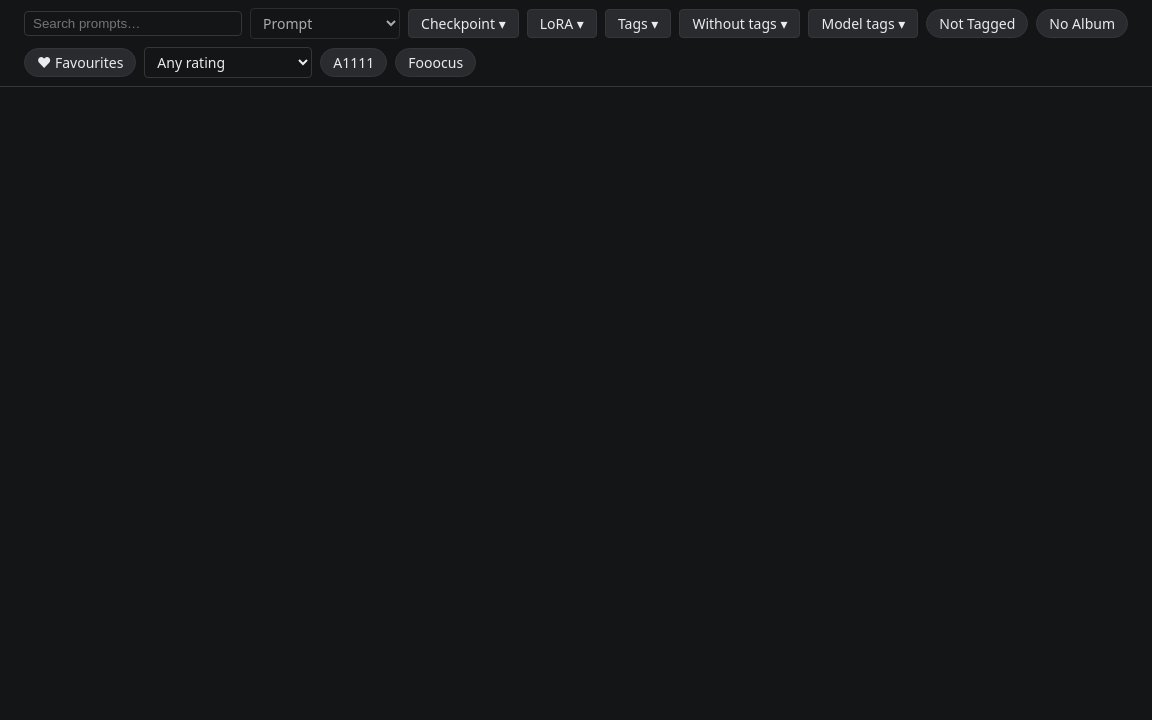
FilterBar › narrows the picker list by name and closes on Escape
Click the button "LoRA ▾" at (562, 24), box [527,9,597,38]
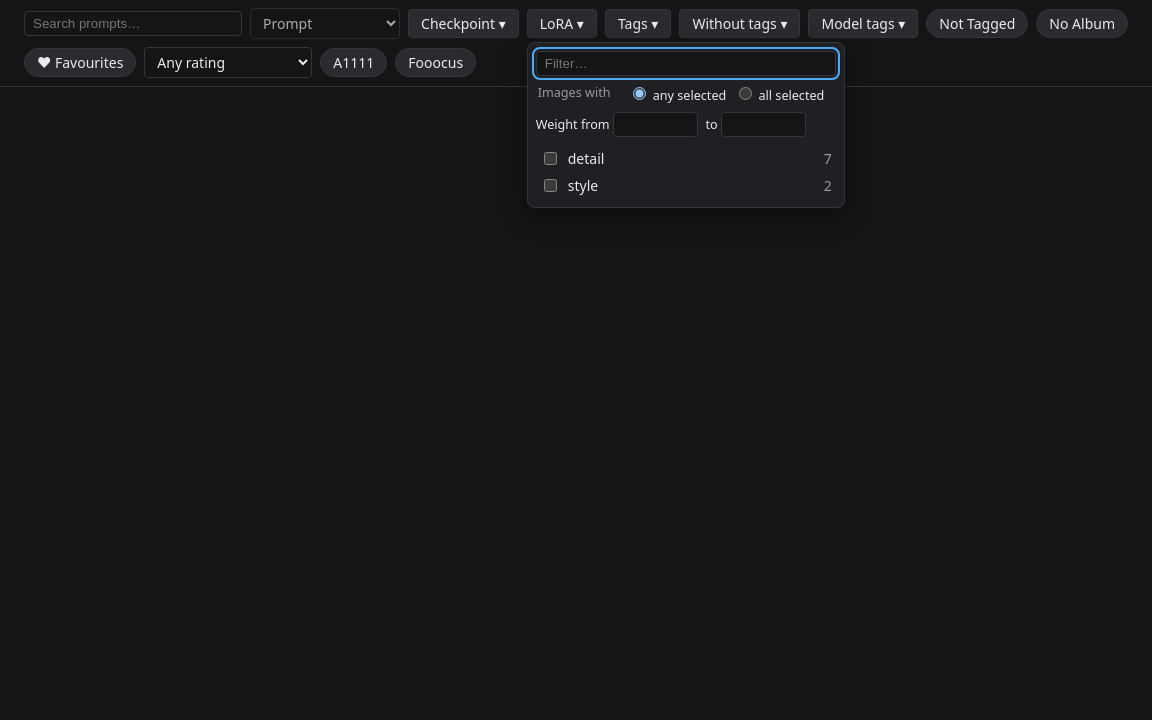
Type "sty" into the search field with placeholder "Filter…" at (686, 64), box [536,51,836,76]
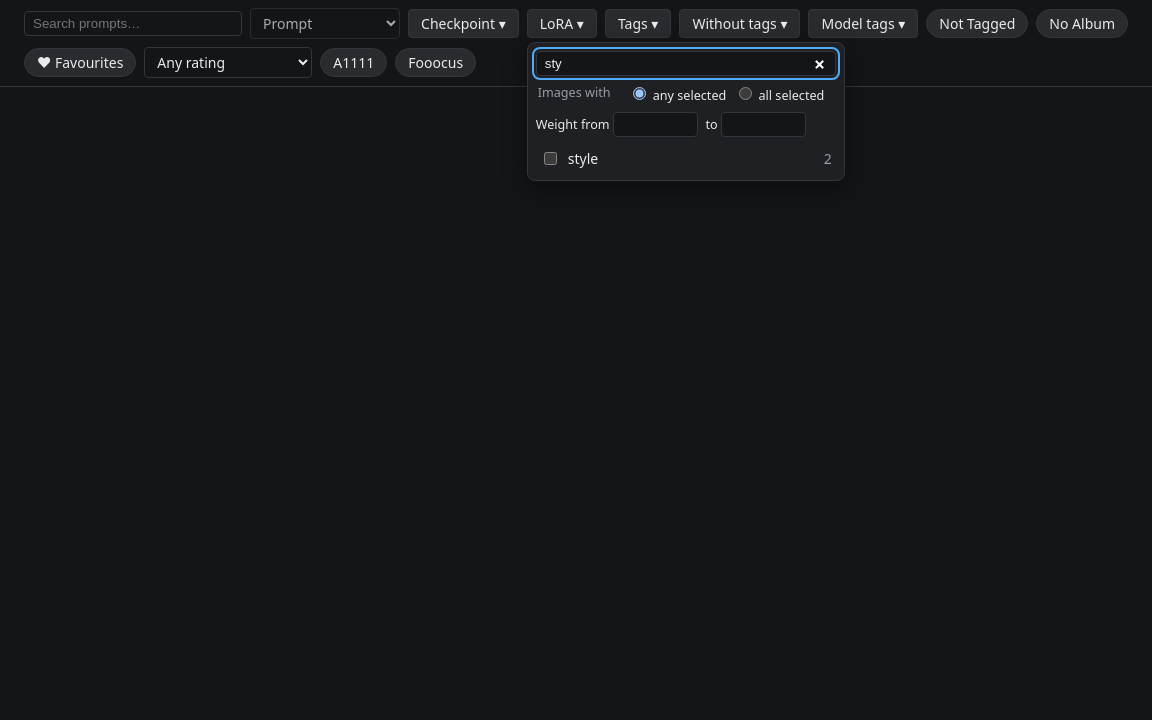
Expected: the text "detail" is gone
Press Escape in the dialog named "LoRA", box [527,42,845,181]
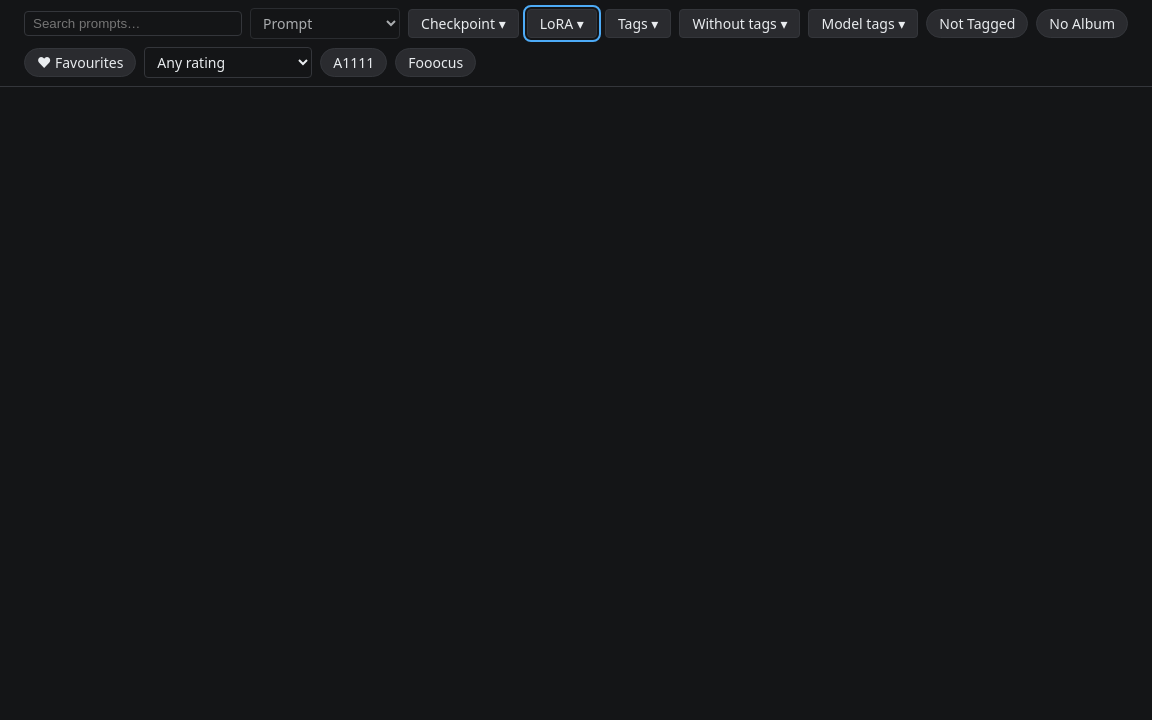
Expected: the dialog is gone
